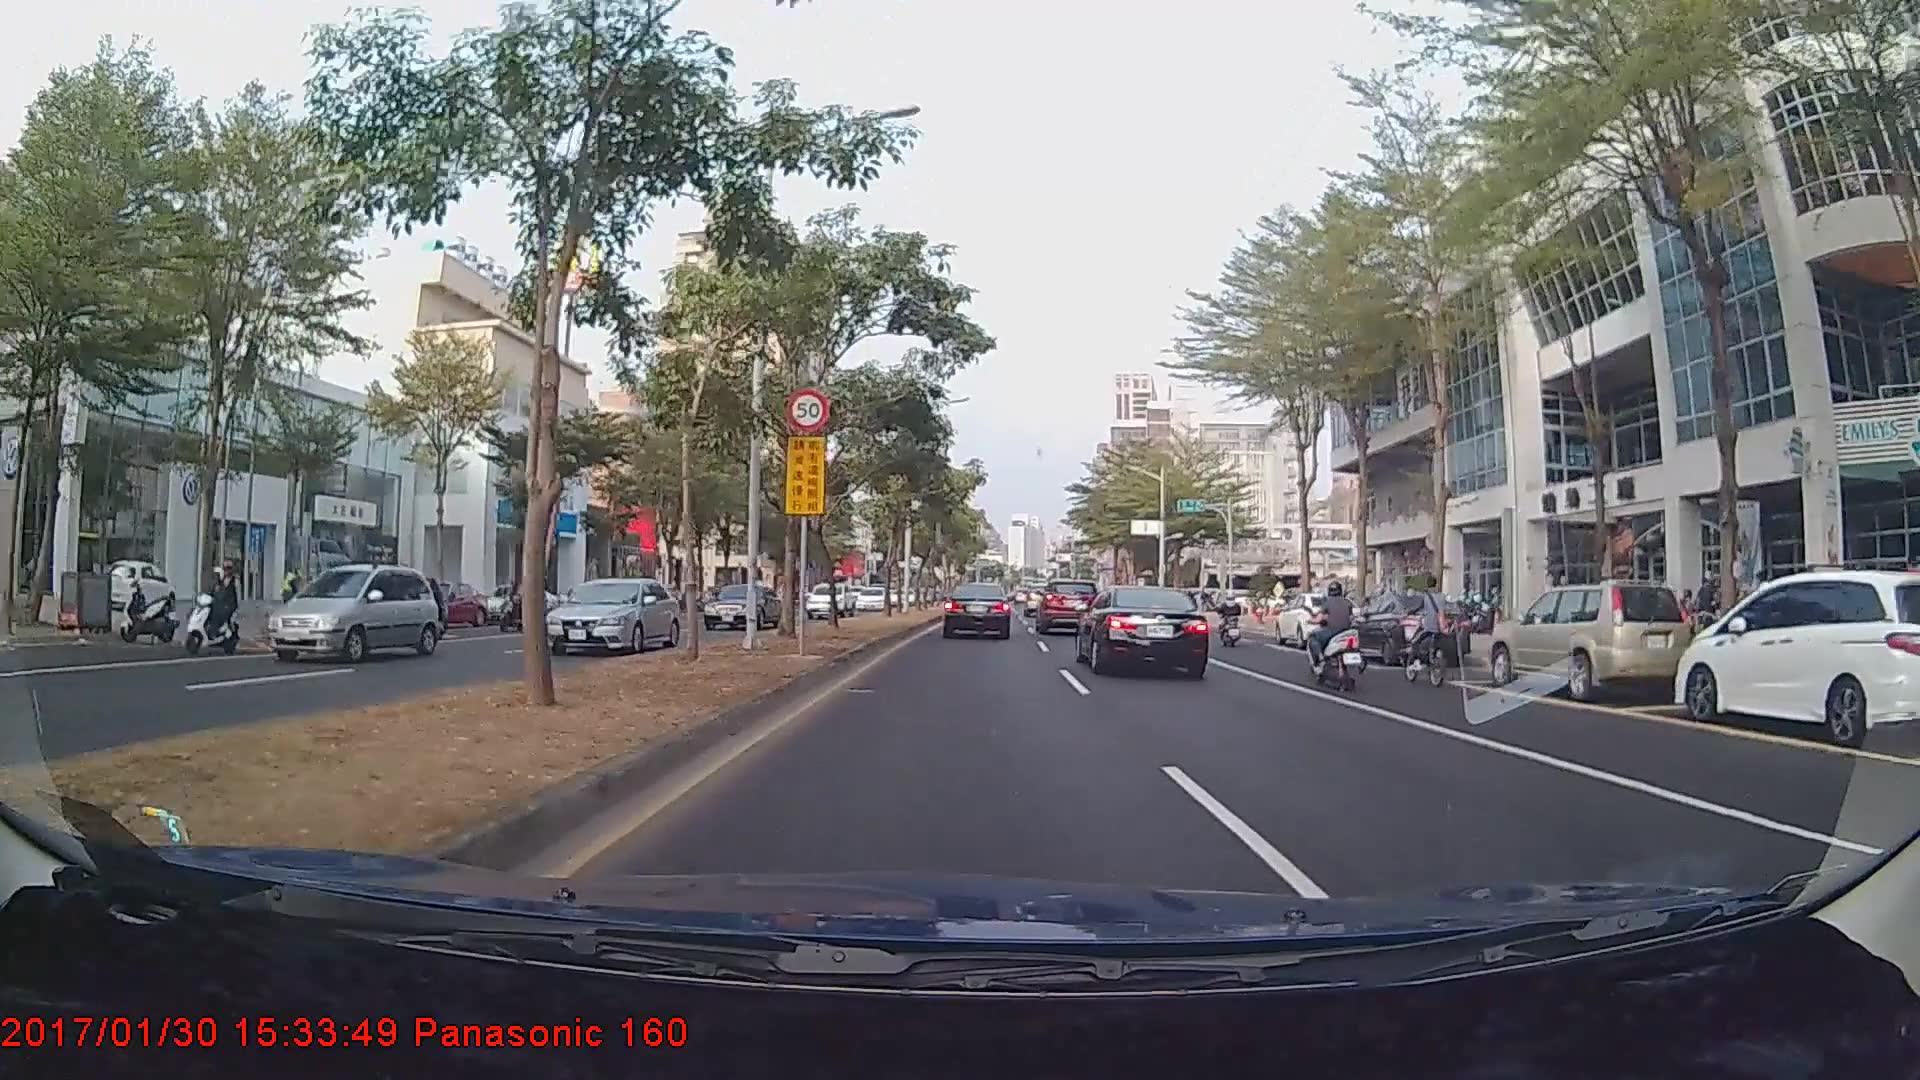rider: (1295, 580, 1374, 696), (1400, 577, 1460, 692), (178, 560, 245, 660), (1321, 588, 1374, 677), (1212, 594, 1247, 650)
vehicle: (1674, 570, 1920, 746), (1490, 582, 1691, 704), (260, 560, 438, 666), (1076, 581, 1210, 680), (547, 579, 680, 659), (1341, 595, 1470, 669), (1271, 590, 1361, 649), (941, 579, 1014, 640), (699, 581, 780, 631), (402, 579, 485, 626), (476, 585, 559, 624), (1037, 581, 1093, 632), (803, 579, 853, 620)
